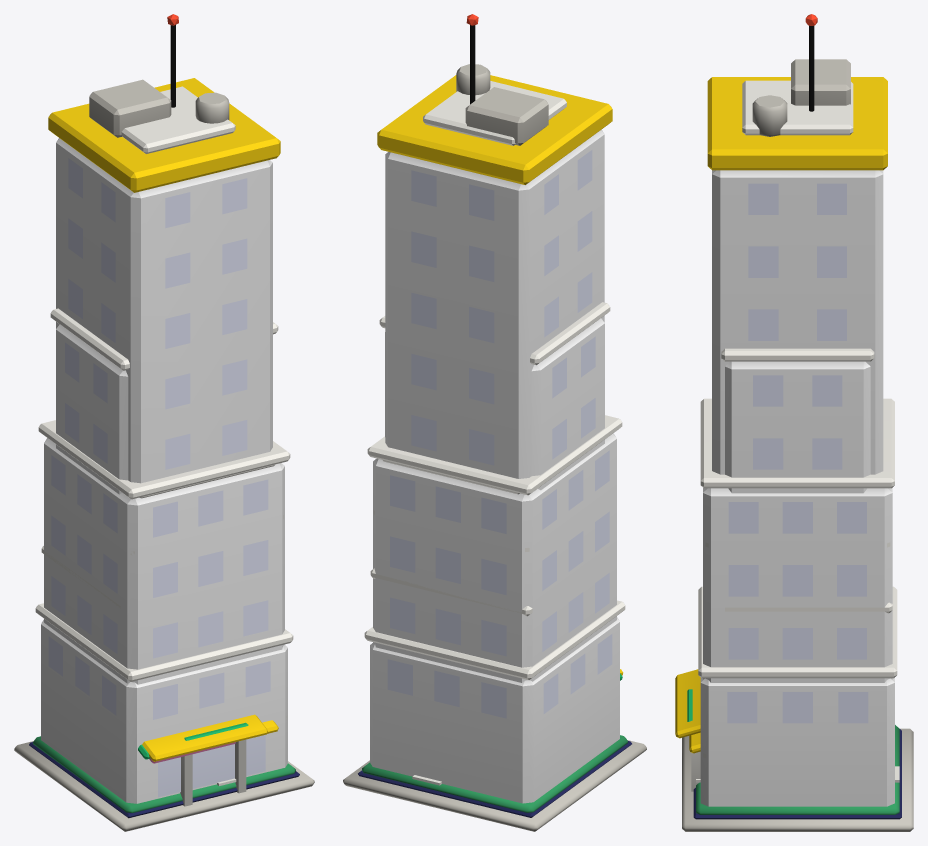
File: city_blocks.glb
The picture shows the model from 3 angles, left to right: view 1: azimuth 30°, elevation 25°; view 2: azimuth 150°, elevation 25°; view 3: azimuth 270°, elevation 25°; orthographic projection. The views are drawn at different scales.
Parts seen in each view (by area): view 1: block_4b, block_4a, block_3a, block_3b, block_0a, block_2a, block_2c, block_0b; view 2: block_4b, block_4a, block_3a, block_3b, block_0a, block_0b, block_2c; view 3: block_4b, block_4a, block_3a, block_3b, block_0a, block_2a, block_0b, block_2c.
Boxes of the visible parts, x1=… form: block_4b: x1=48, y1=78, x2=280, y2=483; block_4a: x1=38, y1=14, x2=290, y2=684; block_3a: x1=35, y1=603, x2=293, y2=803; block_3b: x1=50, y1=308, x2=278, y2=494; block_0a: x1=14, y1=736, x2=314, y2=831; block_2a: x1=130, y1=515, x2=283, y2=761; block_2c: x1=41, y1=546, x2=248, y2=806; block_0b: x1=29, y1=715, x2=299, y2=818; block_4b: x1=377, y1=64, x2=612, y2=478; block_4a: x1=367, y1=14, x2=622, y2=682; block_3a: x1=364, y1=600, x2=625, y2=803; block_3b: x1=379, y1=302, x2=610, y2=490; block_0a: x1=343, y1=735, x2=646, y2=831; block_0b: x1=358, y1=741, x2=631, y2=817; block_2c: x1=370, y1=568, x2=532, y2=616; block_4b: x1=707, y1=59, x2=887, y2=474; block_4a: x1=700, y1=14, x2=894, y2=682; block_3a: x1=698, y1=586, x2=897, y2=806; block_3b: x1=721, y1=348, x2=874, y2=493; block_0a: x1=682, y1=725, x2=913, y2=831; block_2a: x1=675, y1=542, x2=890, y2=738; block_0b: x1=693, y1=729, x2=901, y2=819; block_2c: x1=687, y1=602, x2=892, y2=791.
Bounding box in the file's own units: 1 × 3.71 × 1.03.
